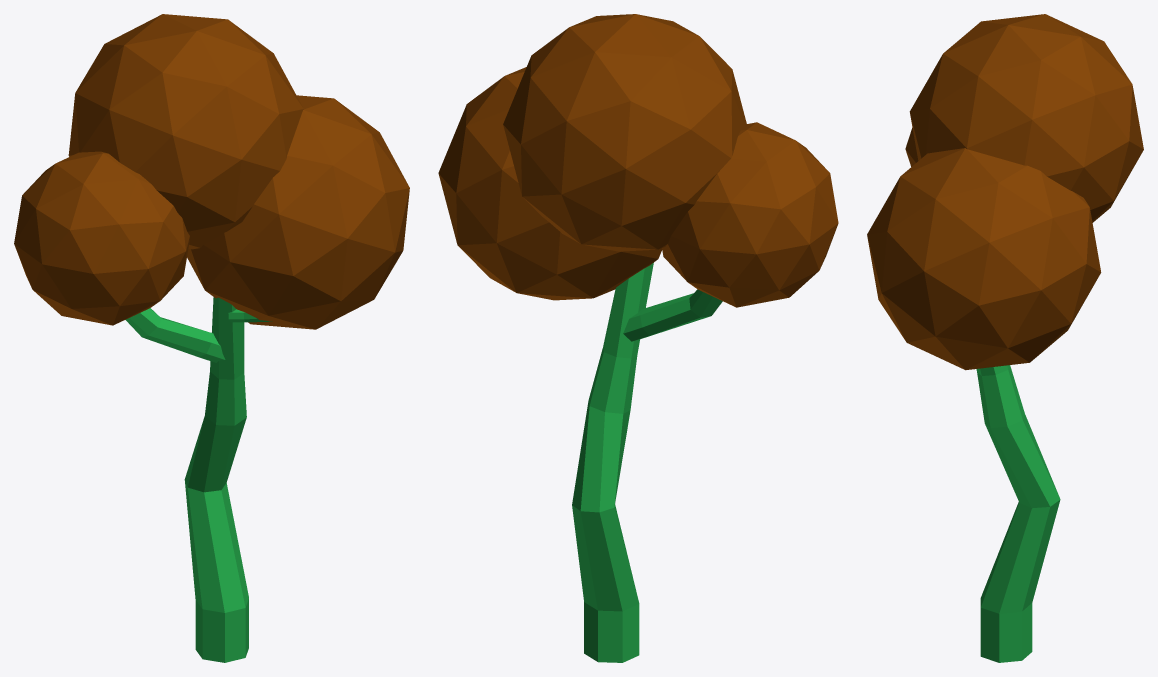
File: Tree2 (1).fbx
3 views of the same model, side by side, from view 1: azimuth 30°, elevation 25°; view 2: azimuth 150°, elevation 25°; view 3: azimuth 270°, elevation 25° (orthographic). The views are drawn at different scales.
Visible parts, largest first — view 1: Tree2__1_; view 2: Tree2__1_; view 3: Tree2__1_.
Boxes of the visible parts, x1,y1,x2,y2 form: Tree2__1_: [14, 14, 409, 662]; Tree2__1_: [438, 14, 838, 662]; Tree2__1_: [867, 14, 1143, 662].
Size of the model in its own units: 695 by 1143 by 467.
